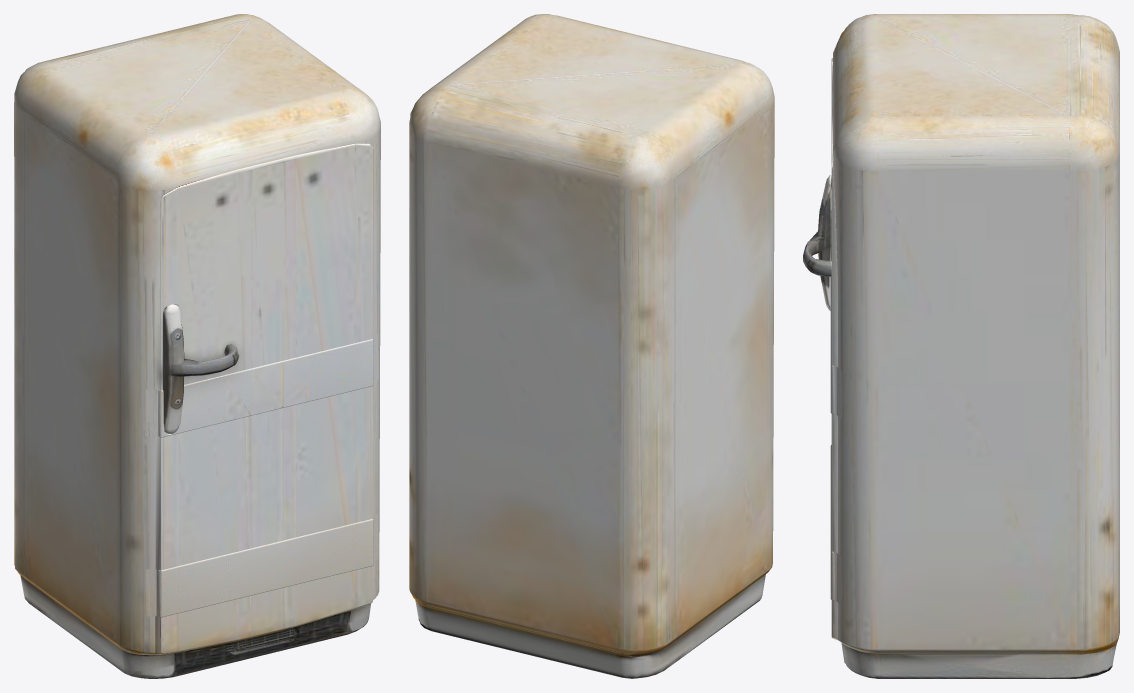
Rendered from fridge.glb.
3 renders of one model, left to right at view 1: azimuth 30°, elevation 25°; view 2: azimuth 150°, elevation 25°; view 3: azimuth 270°, elevation 25°, orthographic. The views are drawn at different scales.
Bounding box in the file's own units: 0.9589 × 1.9 × 0.9902.
1 material, 1 textured.
